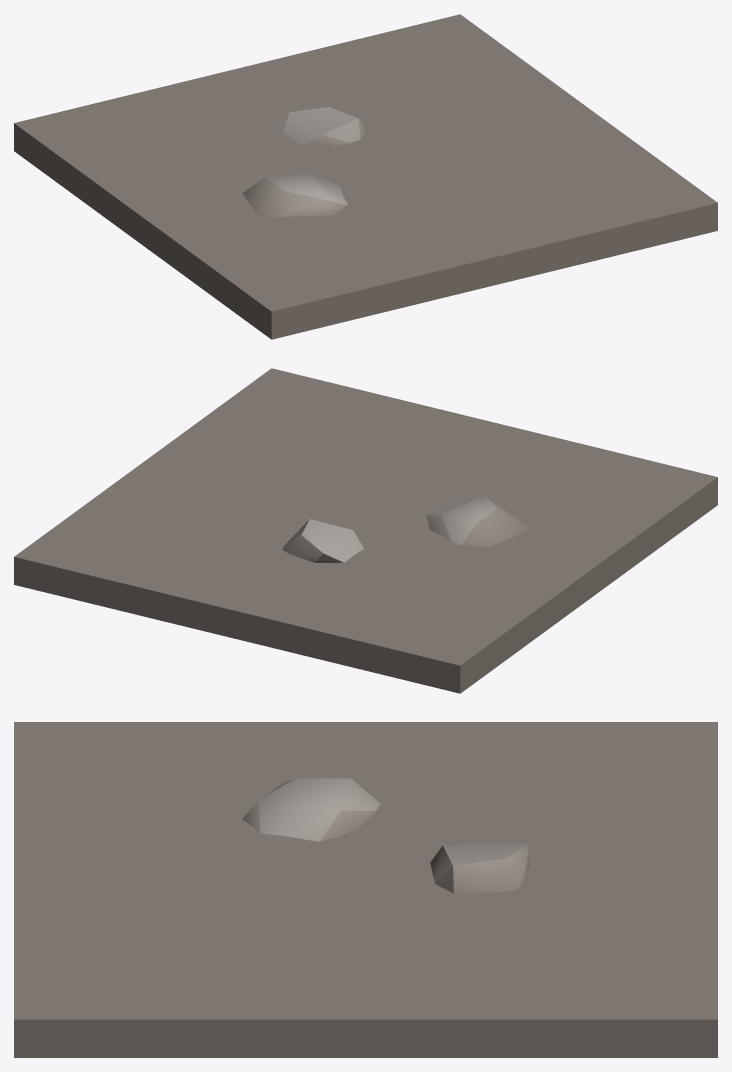
File: floor-dirt-small-b.gltf.glb
The picture shows the model from 3 angles, top to bottom: view 1: azimuth 30°, elevation 25°; view 2: azimuth 150°, elevation 25°; view 3: azimuth 270°, elevation 25°; orthographic projection. The views are drawn at different scales.
Parts seen in each view (by area): view 1: floor_dirt_small_B; view 2: floor_dirt_small_B; view 3: floor_dirt_small_B.
Boxes of the visible parts, bbox=[...] form: floor_dirt_small_B: bbox=[14, 14, 717, 339]; floor_dirt_small_B: bbox=[14, 368, 717, 693]; floor_dirt_small_B: bbox=[14, 722, 717, 1057].
Bounding box in the file's own units: 2 × 0.1886 × 2.
Materials: 1 (1 with a texture image).
